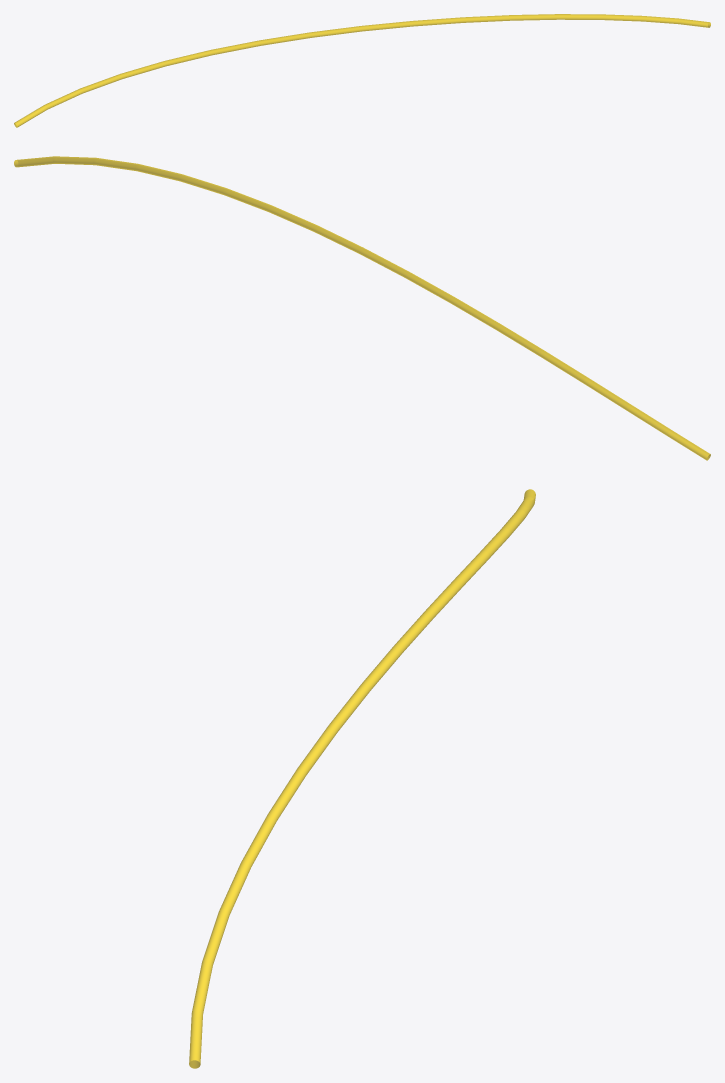
File: Event_402970704_track_57.fbx
3 renders of one model, top to bottom at view 1: azimuth 30°, elevation 25°; view 2: azimuth 150°, elevation 25°; view 3: azimuth 270°, elevation 25°, orthographic. The views are drawn at different scales.
Parts seen in each view (by area): view 1: Model; view 2: Model; view 3: Model.
Boxes of the visible parts, box(x1,y1,x2,y2) form: Model: box(14, 14, 710, 127); Model: box(14, 156, 710, 460); Model: box(189, 489, 535, 1068).
Bounding box in the file's own units: 4.92 × 0.4454 × 1.21.
